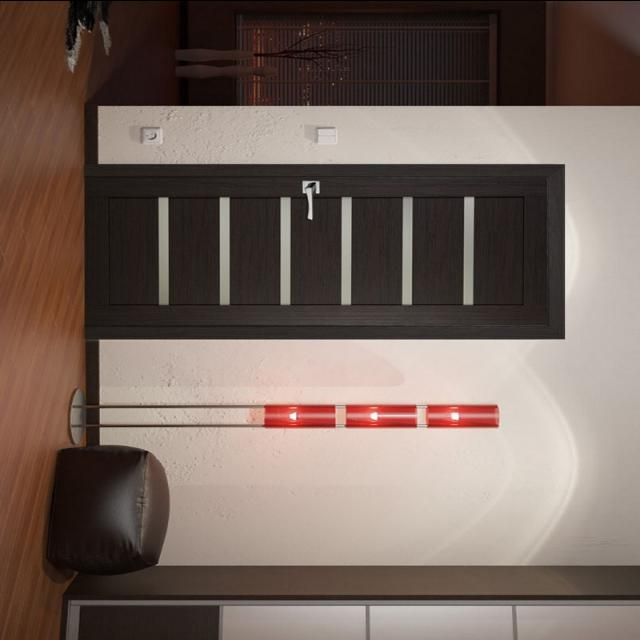close: (97, 174, 554, 333)
